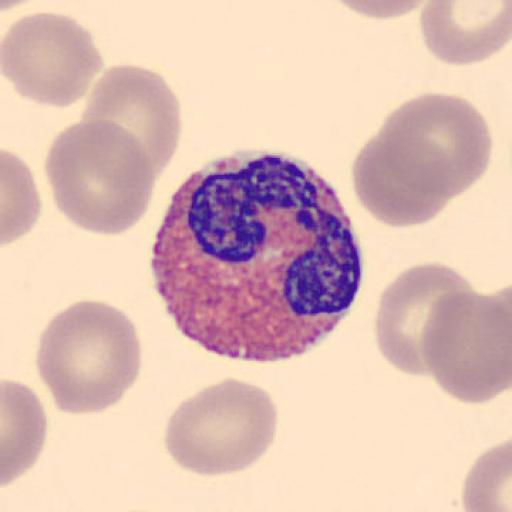RBC: (357, 92, 495, 228), (44, 116, 158, 236), (371, 92, 494, 199), (34, 298, 142, 416), (372, 262, 478, 378), (80, 62, 183, 178), (163, 377, 279, 478), (419, 285, 512, 405), (350, 129, 454, 229), (1, 11, 104, 109), (419, 1, 511, 67), (2, 378, 48, 488), (0, 147, 41, 247), (461, 437, 512, 512), (324, 0, 437, 21), (1, 0, 40, 13)
WBC: (146, 155, 367, 363)
